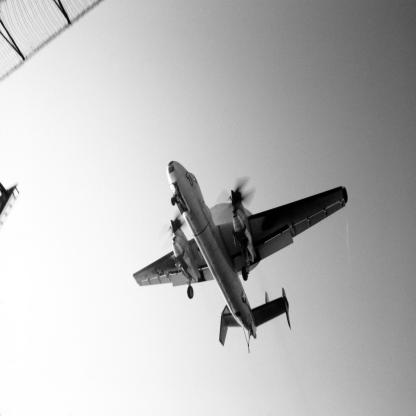E2: (134, 162, 349, 355)
